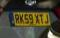5: (25, 14, 29, 24)
9: (29, 14, 33, 24)
J: (44, 13, 48, 24)
K: (20, 14, 24, 24)
R: (15, 14, 20, 24)
T: (40, 13, 44, 24)
X: (35, 14, 40, 24)
